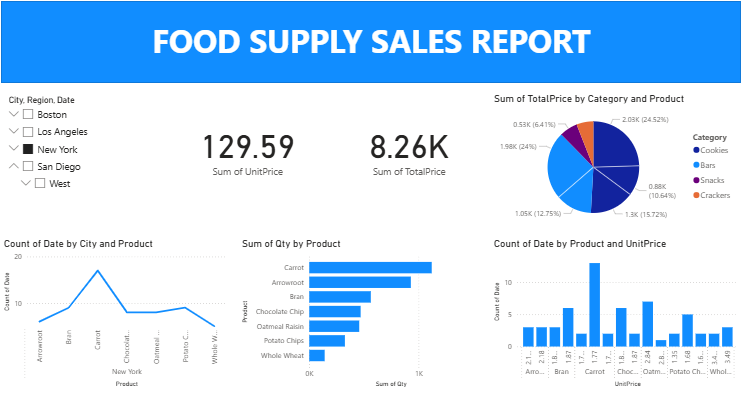

The page's visual inventory and layout, read from the dashboard file:
{"tool":"powerbi","page":{"name":"Page 1","canvas":[1280,720],"ordinal":0},"visuals":[{"type":"shape","box":[16.8,55.4,1243,137.7],"z":0},{"type":"textbox","box":[87.3,79,1103.6,90.7],"z":3},{"type":"pieChart","fields":{"Category":["Sales_Data.Category"],"Series":["Sales_Data.Product"],"Y":["Sum(Sales_Data.TotalPrice)"]},"box":[839.9,208.3,419.9,233.5],"z":4},{"type":"actionButton","box":[0,0,100,40],"z":5},{"type":"clusteredColumnChart","fields":{"Category":["Sales_Data.Product","Sales_Data.UnitPrice"],"Y":["CountNonNull(Sales_Data.Date)"]},"box":[839.9,451.9,419.9,257],"z":6},{"type":"clusteredBarChart","fields":{"Y":["Sum(Sales_Data.Qty)"],"Category":["Sales_Data.Product"]},"box":[416.6,451.9,411.5,257],"z":7},{"type":"card","fields":{"Values":["Sum(Sales_Data.TotalPrice)"]},"box":[576.2,208.3,252,189.8],"z":8},{"type":"card","fields":{"Values":["Sum(Sales_Data.UnitPrice)"]},"box":[300.7,208.3,260.4,189.8],"z":9},{"type":"slicer","fields":{"Values":["Sales_Data.City","Sales_Data.Region","Sales_Data.Date"]},"box":[16.8,208.3,273.8,189.8],"z":10},{"type":"lineChart","fields":{"Y":["CountNonNull(Sales_Data.Date)"],"Category":["Sales_Data.City","Sales_Data.Product"]},"box":[16.8,451.9,383,257],"z":11}]}

Visuals, with their boxes on the page's 1280x720 design canvas (x1, y1, x2, y2). These are canvas units, not pixel positions in the 743x394 screenshot, which may show the page scaled, cropped or inside an application window:
shape: (17, 55, 1260, 193)
textbox: (87, 79, 1191, 170)
pieChart - Sales_Data.Category x Sales_Data.Product: (840, 208, 1260, 442)
actionButton: (0, 0, 100, 40)
clusteredColumnChart - Sales_Data.Product x Sales_Data.UnitPrice: (840, 452, 1260, 709)
clusteredBarChart - Sum(Sales_Data.Qty) x Sales_Data.Product: (417, 452, 828, 709)
card - Sum(Sales_Data.TotalPrice): (576, 208, 828, 398)
card - Sum(Sales_Data.UnitPrice): (301, 208, 561, 398)
slicer - Sales_Data.City x Sales_Data.Region: (17, 208, 291, 398)
lineChart - CountNonNull(Sales_Data.Date) x Sales_Data.City: (17, 452, 400, 709)
